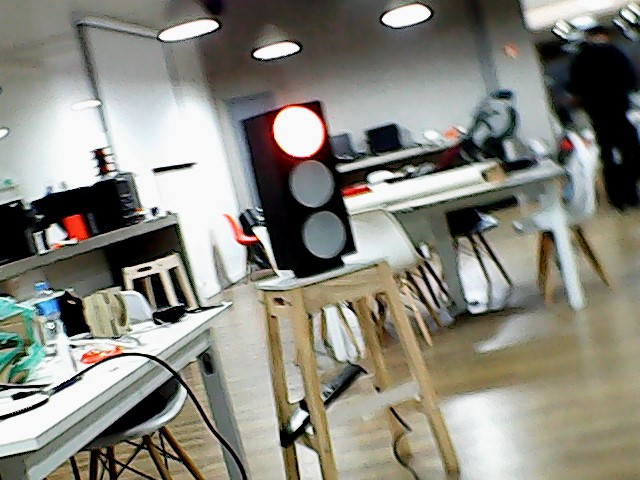vermelho: (235, 96, 360, 270)
